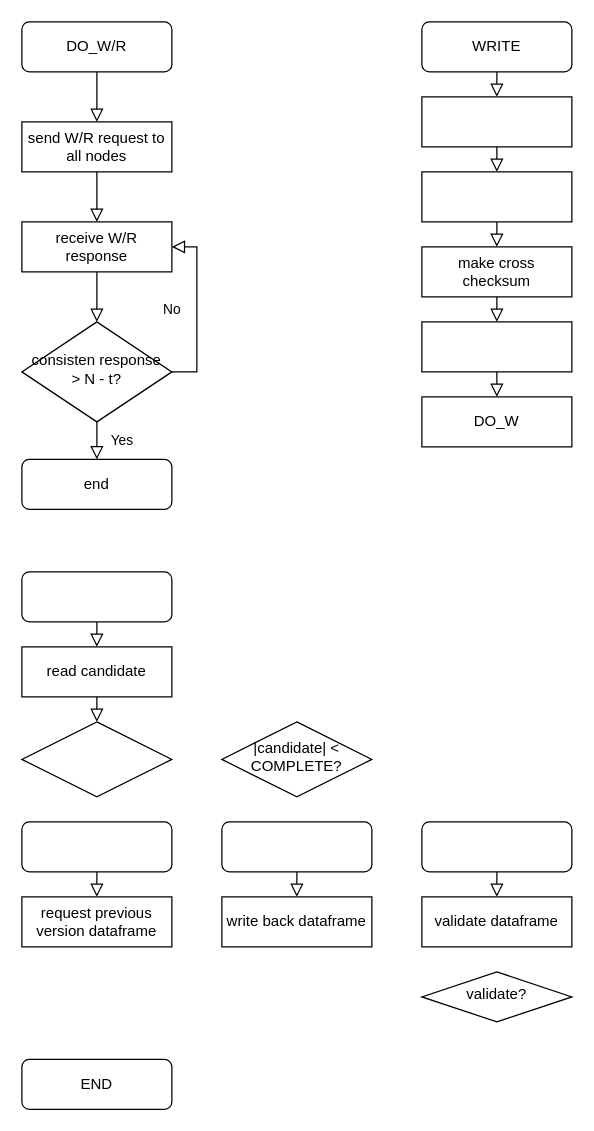
Image size: 594x1131. Some labels were removed from this diagram. The shapes that lost their labels are listed below. From the top down, each one's centre as x and y in pixels, then its label:
(496,121): read timestamp
(496,196): encode data
(496,346): make timestamp
(96,596): READ
(96,759): |candidate| < INCOMPLETE?
(96,846): candidate is incomplete
(296,846): candidate is repairable
(496,846): candidate is complete
